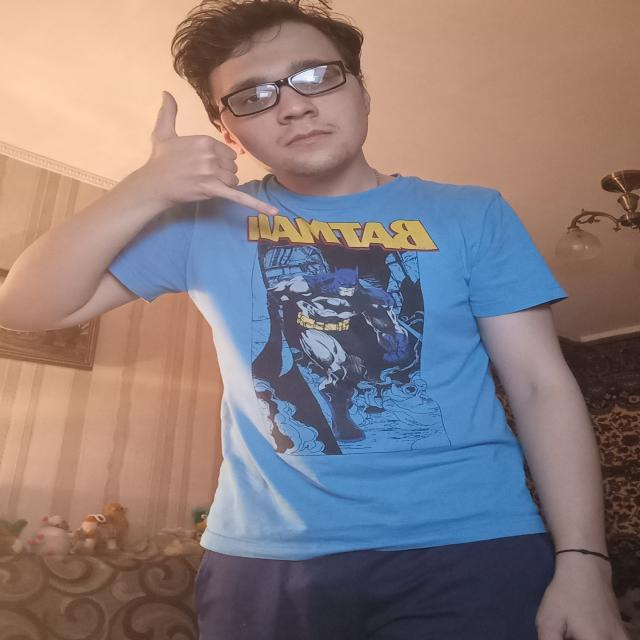call: (143, 90, 284, 219)
